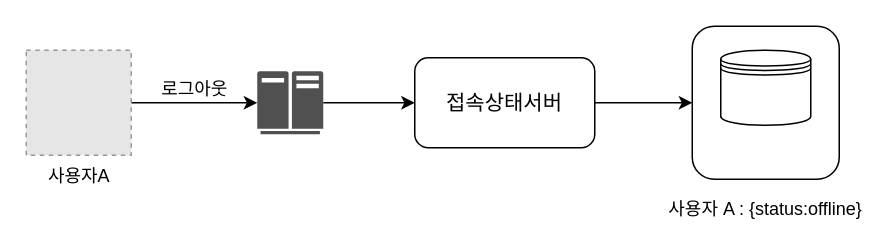
The diagram is 888 pixels wide and 246 high, and some of its shapes have lost their labels. Grey dashed boxes stand in for pictures. The shapes that lost their labels are listed below. From the top down, each one's box as (x1, y1, x2, y2) in pixels, then its label:
(256, 70, 322, 134): API서버
(719, 49, 811, 125): 키-값 저장소
